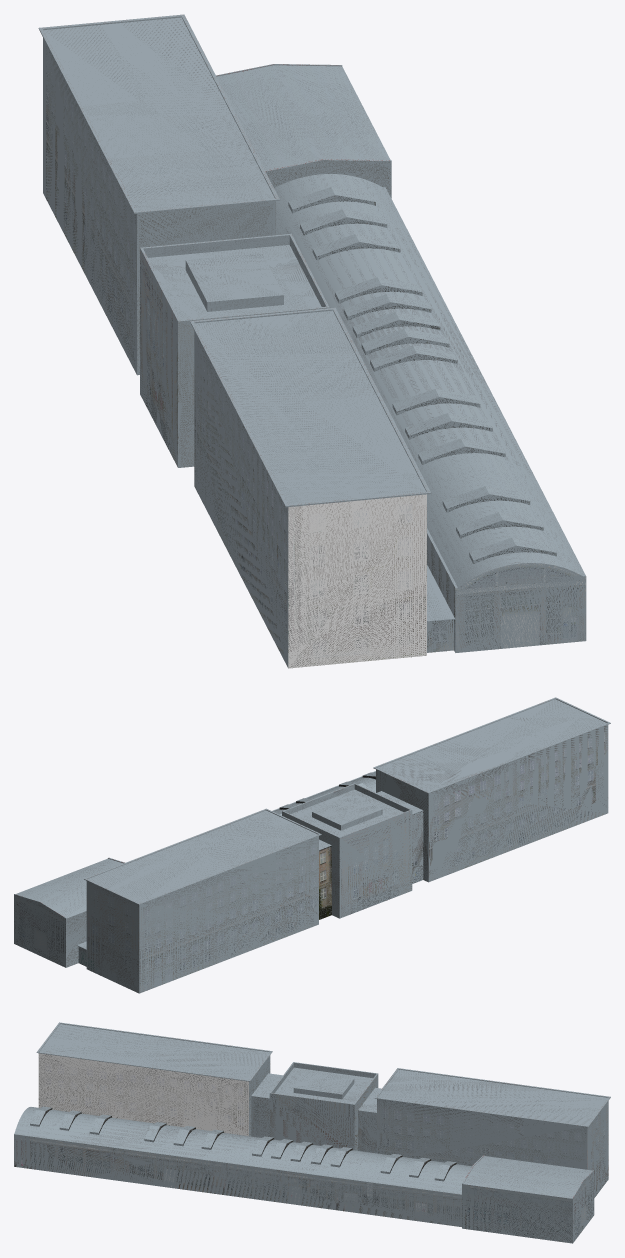
File: Mech.fbx
The picture shows the model from 3 angles, top to bottom: view 1: azimuth 30°, elevation 25°; view 2: azimuth 150°, elevation 25°; view 3: azimuth 270°, elevation 25°; orthographic projection. The views are drawn at different scales.
Parts seen in each view (by area): view 1: myMechan3_1, Component_3_12, Component_3_14, Component_3_8, Component_3_1, Component_3_5, Component_3_7, Component_3_6, Component_3_2, Component_3_13, Component_3_3, Component_3_9 (+3 smaller); view 2: myMechan3_1; view 3: myMechan3_1.
Part boxes in pixels (x1,y1,x2,y2): myMechan3_1: (38, 14, 586, 668); Component_3_12: (361, 328, 449, 355); Component_3_14: (352, 311, 440, 338); Component_3_8: (469, 537, 556, 564); Component_3_1: (418, 438, 505, 464); Component_3_5: (392, 389, 480, 415); Component_3_7: (312, 234, 400, 260); Component_3_6: (343, 294, 431, 320); Component_3_2: (442, 486, 530, 512); Component_3_13: (370, 345, 457, 371); Component_3_3: (456, 512, 543, 538); Component_3_9: (288, 187, 375, 213); myMechan3_1: (14, 697, 610, 993); myMechan3_1: (14, 1022, 610, 1243).
Bounding box in the file's own units: 2904 × 799 × 5265.
